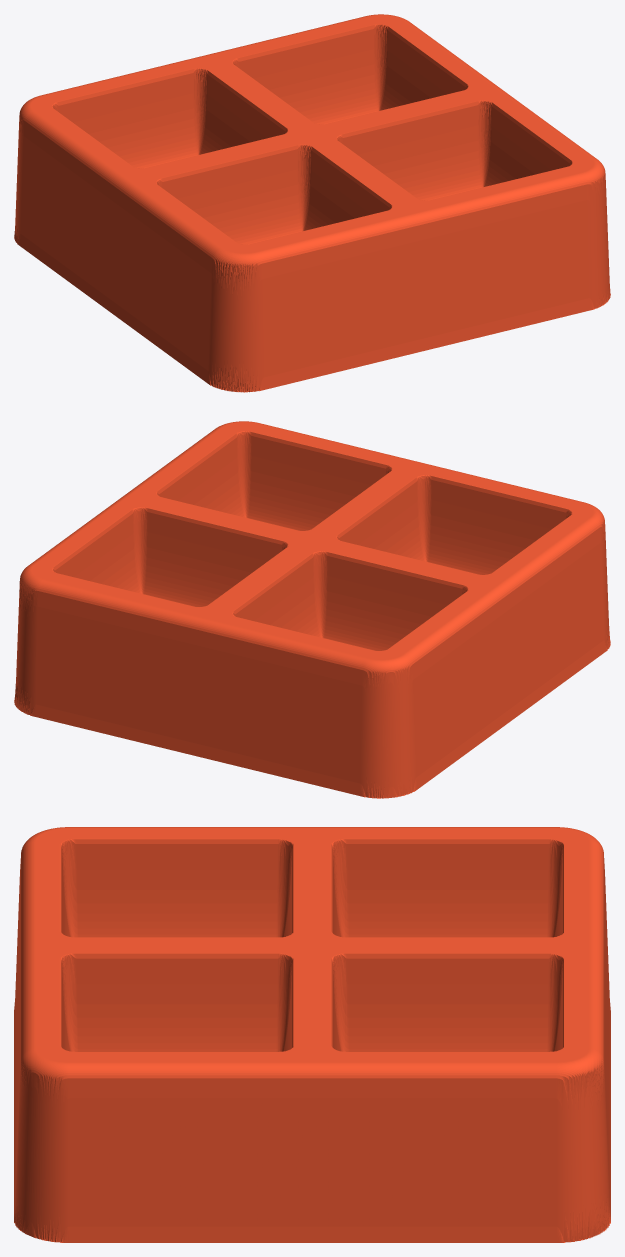
File: mold.glb
The picture shows the model from 3 angles, top to bottom: view 1: azimuth 30°, elevation 25°; view 2: azimuth 150°, elevation 25°; view 3: azimuth 270°, elevation 25°; orthographic projection. The views are drawn at different scales.
Parts seen in each view (by area): view 1: geometry_0; view 2: geometry_0; view 3: geometry_0.
Boxes of the visible parts, box(x1,y1,x2,y2) form: geometry_0: box(14, 14, 610, 392); geometry_0: box(14, 421, 610, 798); geometry_0: box(14, 827, 610, 1242).
Bounding box in the file's own units: 0.0992 × 0.0314 × 0.0992.
